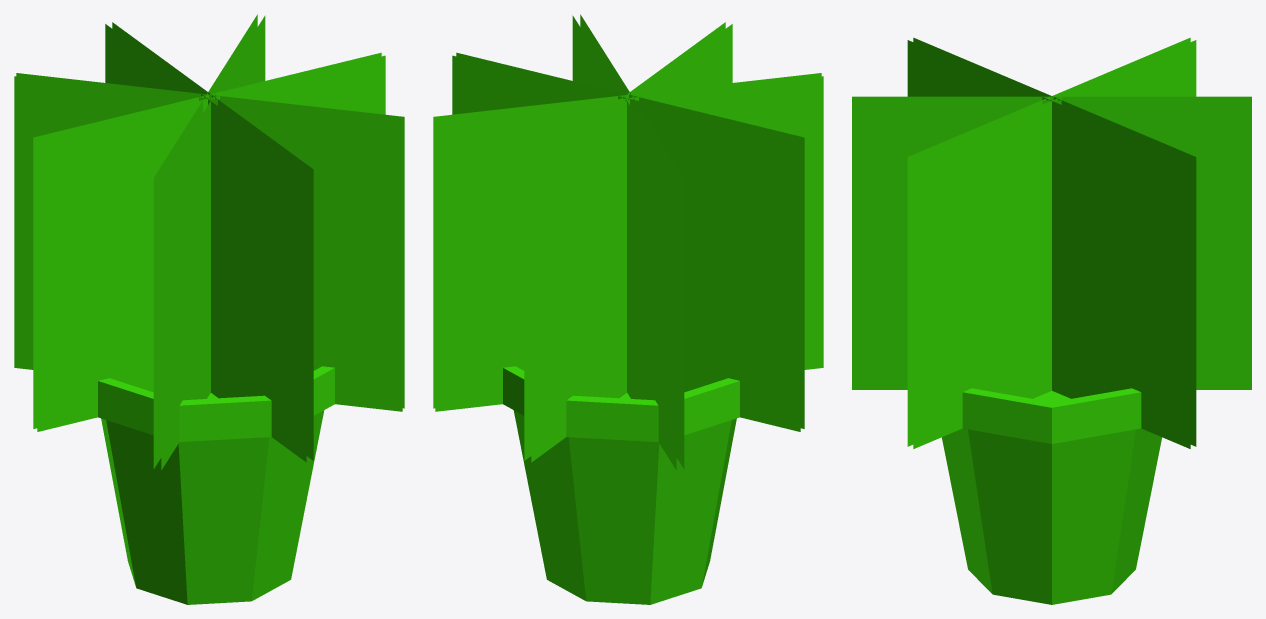
The model's file is vase4.fbx.
3 renders of one model, left to right at view 1: azimuth 30°, elevation 25°; view 2: azimuth 150°, elevation 25°; view 3: azimuth 270°, elevation 25°, orthographic.
Parts seen in each view (by area): view 1: vase4; view 2: vase4; view 3: vase4.
Boxes of the visible parts, box(x1,y1,x2,y2) form: vase4: box(14, 14, 404, 604); vase4: box(433, 14, 823, 604); vase4: box(852, 37, 1251, 604).
Size of the model in its own units: 100 by 130 by 100.
